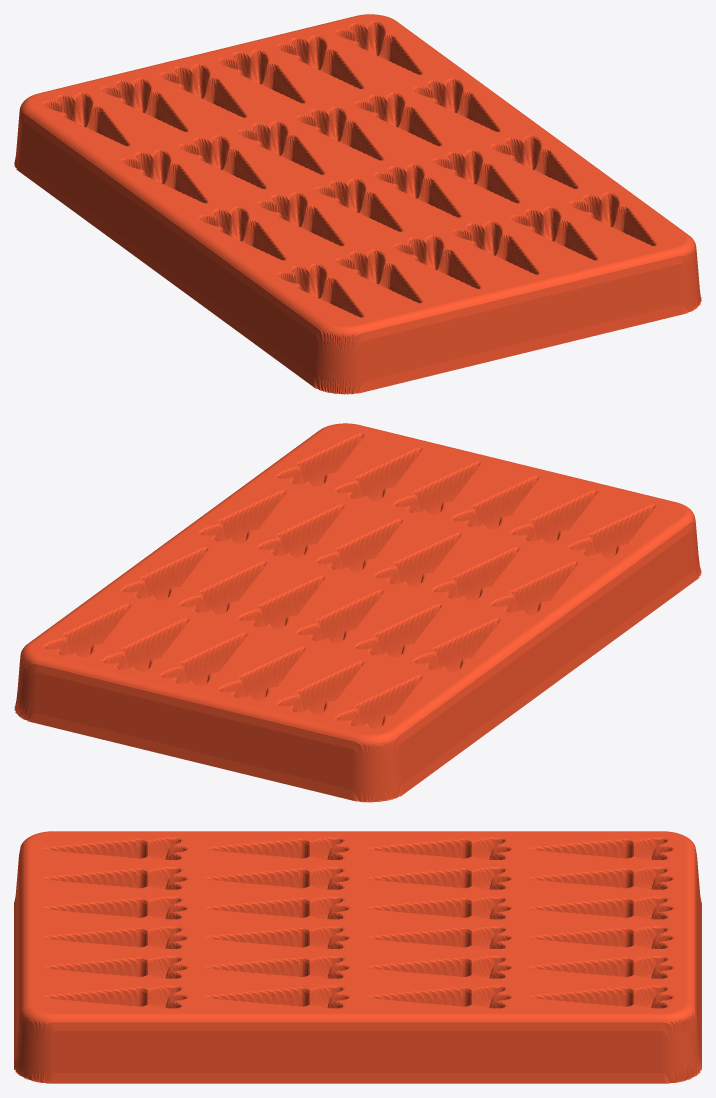
The model's file is mold.glb.
3 views of the same model, one above another, from view 1: azimuth 30°, elevation 25°; view 2: azimuth 150°, elevation 25°; view 3: azimuth 270°, elevation 25° (orthographic). The views are drawn at different scales.
Parts seen in each view (by area): view 1: geometry_0; view 2: geometry_0; view 3: geometry_0.
Part boxes in pixels (x1,y1,x2,y2): geometry_0: (14, 14, 701, 394); geometry_0: (14, 423, 701, 802); geometry_0: (14, 831, 701, 1083).
Bounding box in the file's own units: 0.1046 × 0.0159 × 0.1561.
